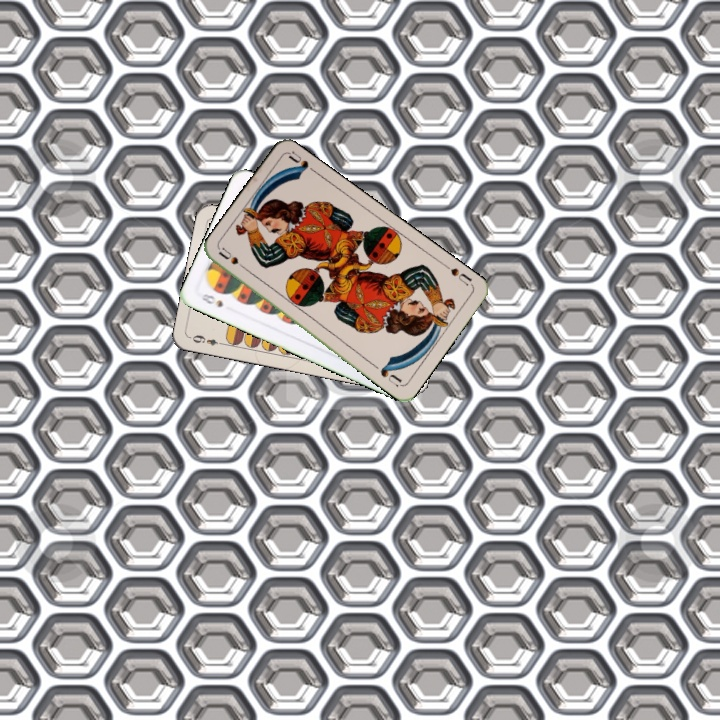E9: (187, 331, 227, 348)
S8: (197, 290, 225, 310)
SU: (215, 244, 252, 275), (447, 264, 475, 288)
